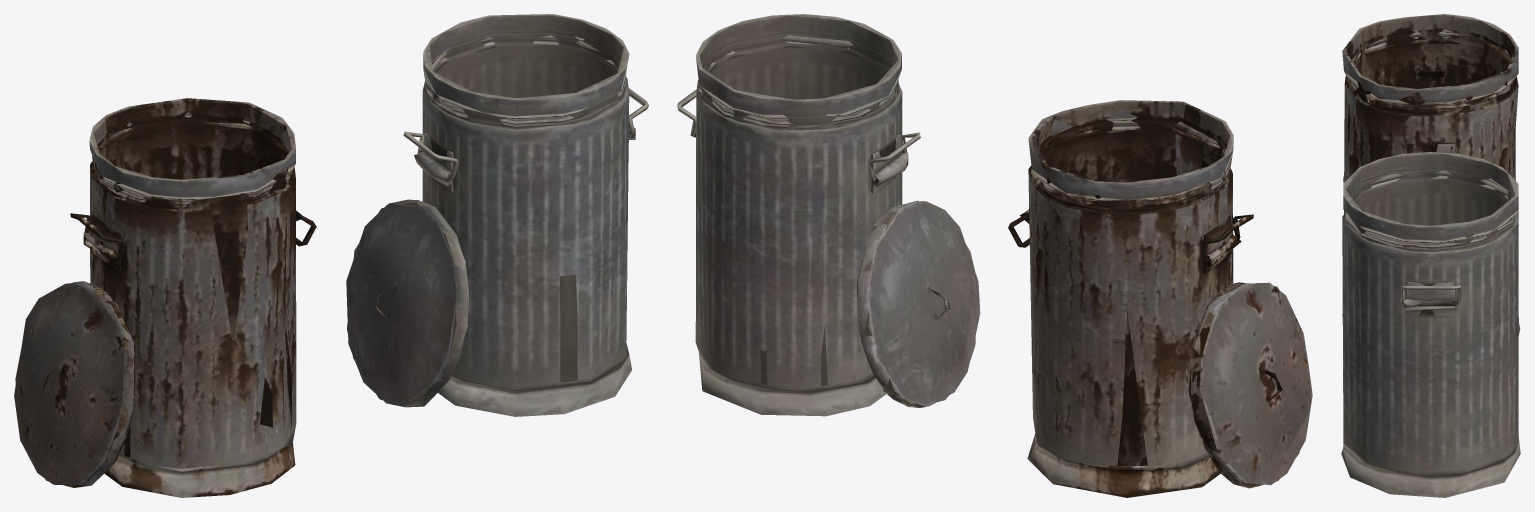
Rendered from metal_trash_can.glb.
3 renders of one model, left to right at view 1: azimuth 30°, elevation 25°; view 2: azimuth 150°, elevation 25°; view 3: azimuth 270°, elevation 25°, orthographic. The views are drawn at different scales.
Visible parts, largest first — view 1: metal_trash_can, metal_trash_can_rust, metal_trash_can_lid, metal_trash_can_rust_lid; view 2: metal_trash_can, metal_trash_can_rust, metal_trash_can_lid, metal_trash_can_rust_lid; view 3: metal_trash_can, metal_trash_can_rust, metal_trash_can_handle_right.
Boxes of the visible parts, box(x1,y1,x2,y2) form: metal_trash_can: box(414, 14, 635, 416); metal_trash_can_rust: box(83, 98, 301, 497); metal_trash_can_lid: box(346, 199, 469, 407); metal_trash_can_rust_lid: box(14, 281, 135, 487); metal_trash_can: box(695, 14, 908, 416); metal_trash_can_rust: box(1020, 100, 1241, 497); metal_trash_can_lid: box(856, 200, 980, 407); metal_trash_can_rust_lid: box(1188, 282, 1312, 488); metal_trash_can: box(1341, 152, 1520, 497); metal_trash_can_rust: box(1342, 14, 1518, 315); metal_trash_can_handle_right: box(1401, 285, 1460, 306).
Bounding box in the file's own units: 1.78 × 0.9062 × 0.5446.
2 materials, 2 textured.
